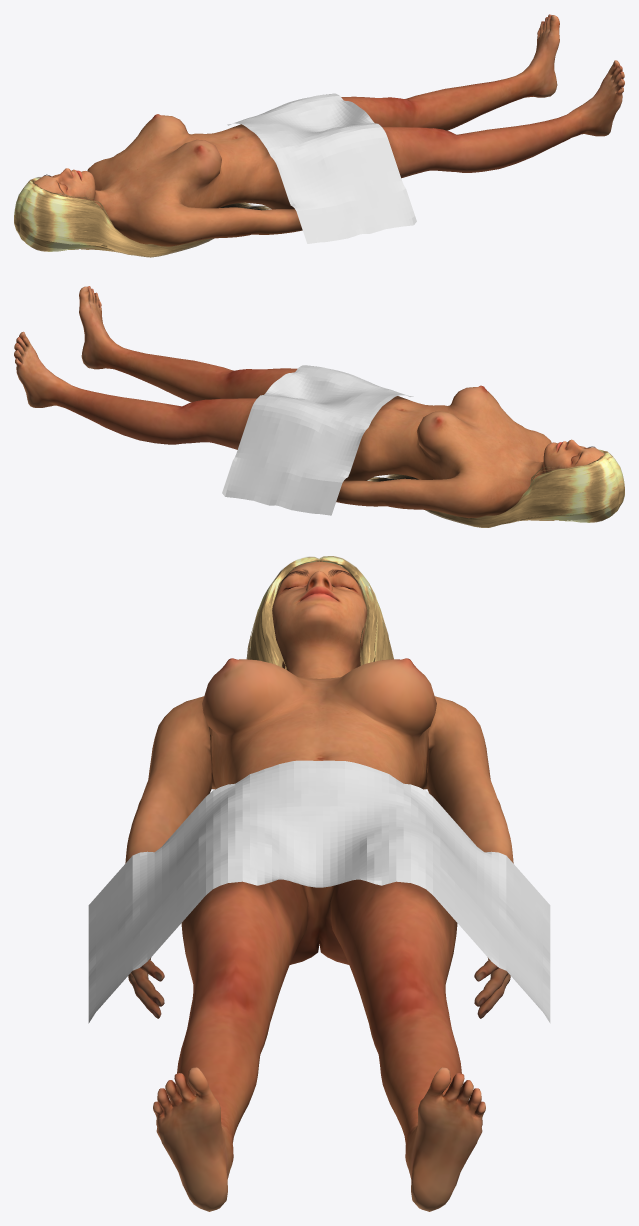
File: kundin_lie_h8.glb
The picture shows the model from 3 angles, top to bottom: view 1: azimuth 30°, elevation 25°; view 2: azimuth 150°, elevation 25°; view 3: azimuth 270°, elevation 25°; orthographic projection. The views are drawn at different scales.
Parts seen in each view (by area): view 1: body, towel, hair; view 2: body, towel, hair; view 3: body, towel, hair.
Part boxes in pixels (box(x1,y1,x2,y2)): body: box(34, 14, 624, 246); towel: box(227, 93, 416, 243); hair: box(14, 177, 271, 257); body: box(14, 286, 604, 518); towel: box(222, 365, 413, 515); hair: box(367, 449, 624, 527); body: box(125, 561, 513, 1211); towel: box(88, 760, 550, 1023); hair: box(246, 556, 393, 669).
Size of the model in its own units: 1.77 by 0.3136 by 0.62.
Materials: 4 (4 with a texture image).
